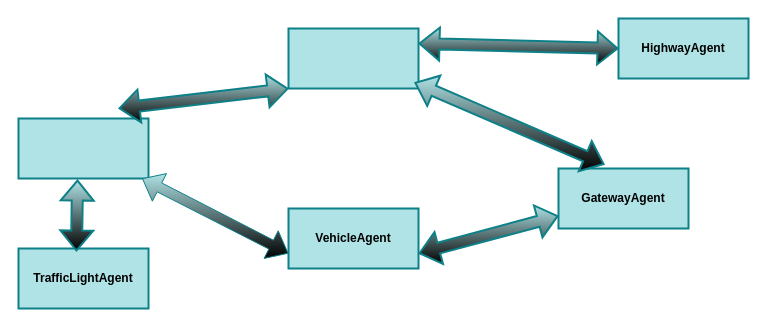
This 766x326 diagram has some shape labels left out. The centre of each missing label's shape, as x and y in pixels:
"I ntersectionAgent" goes at (x=83, y=148).
"SupervisorAgent" goes at (x=353, y=58).
